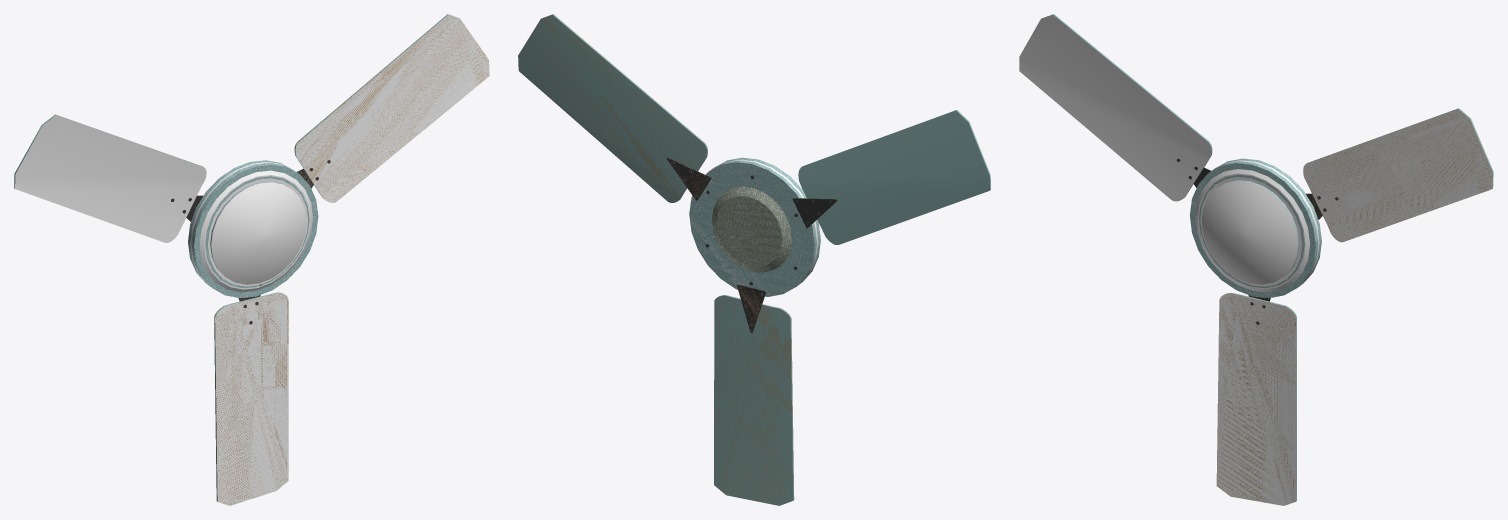
The picture shows the model from 3 angles, left to right: view 1: azimuth 30°, elevation 25°; view 2: azimuth 150°, elevation 25°; view 3: azimuth 330°, elevation 25°; orthographic projection.
Visible parts, largest first — view 1: SketchUp (×8); view 2: SketchUp (×5), Wing_support_plate (×3); view 3: SketchUp (×8).
Boxes of the visible parts, box(x1,y1,x2,y2) form: SketchUp (×8): box(15, 14, 489, 505); SketchUp (×5): box(518, 14, 990, 505); Wing_support_plate (×3): box(667, 157, 837, 332); SketchUp (×8): box(1019, 15, 1492, 505).
Size of the model in its own units: 0.4462 by 0.0294 by 0.3939.
7 materials, 2 textured.
